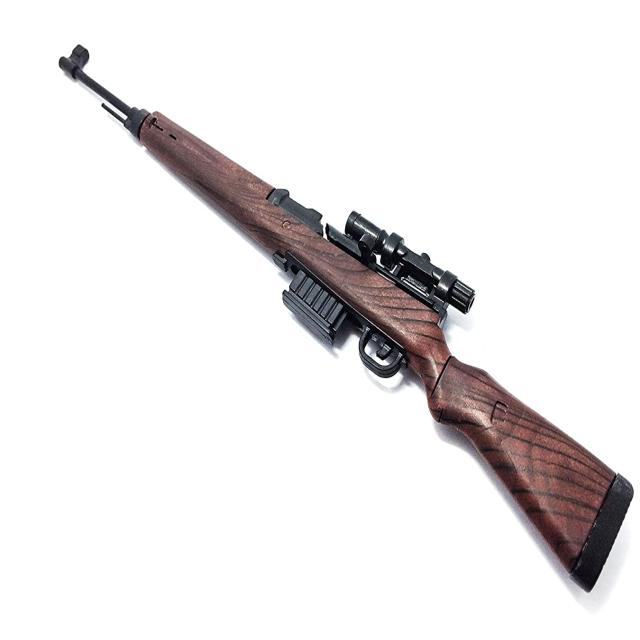Weapon: (60, 46, 631, 591)
